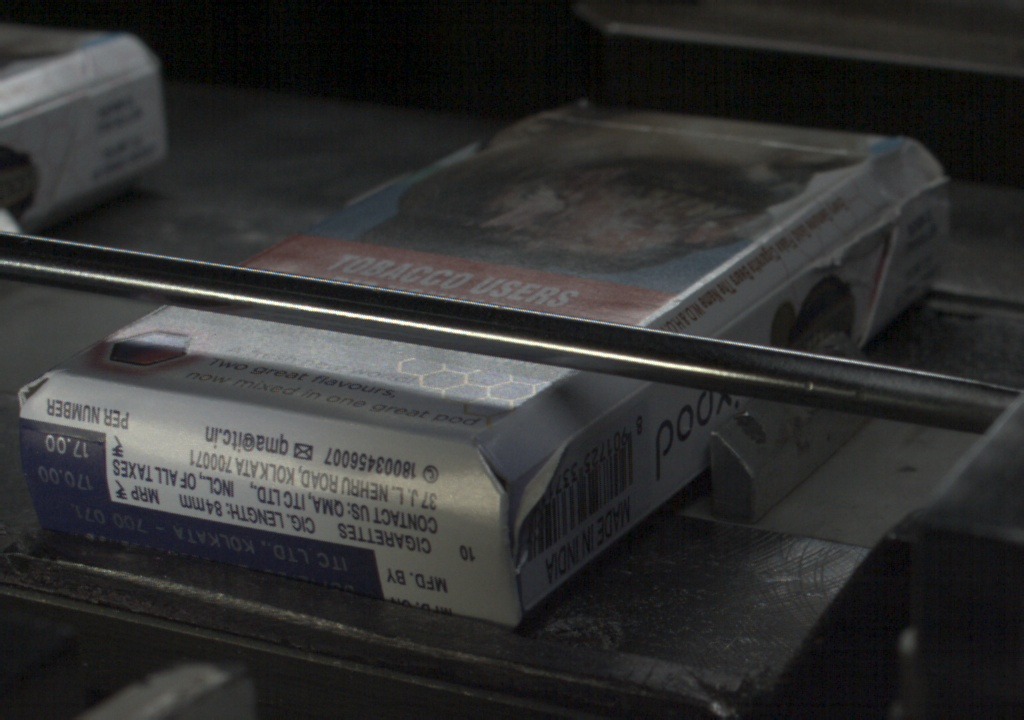g_label: (30, 498, 383, 600)
ng_lmiter: (501, 445, 568, 527), (808, 205, 894, 265)
ng_miter: (896, 175, 947, 212)
price: (19, 427, 109, 496)
